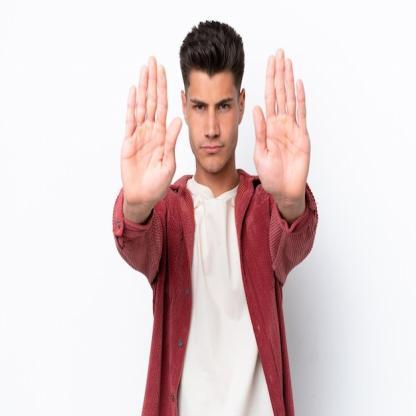stop: (118, 53, 182, 210), (252, 46, 312, 202)
